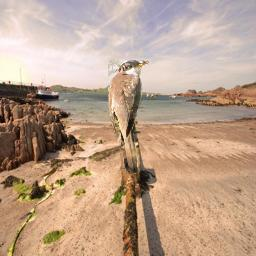Cuckoo: (108, 60, 149, 174)
